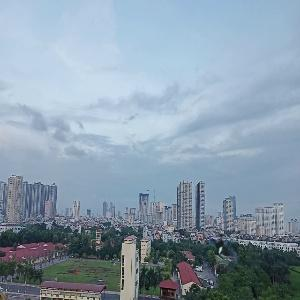drone: (193, 219, 246, 272)
